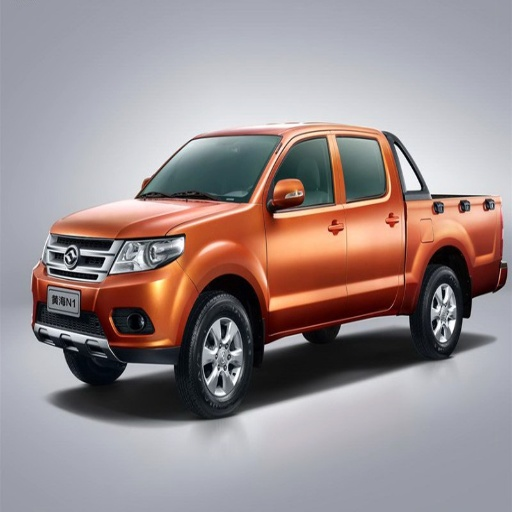back_glass: (335, 131, 404, 307)
back_right_light: (33, 236, 197, 358)
front_bumper: (135, 138, 279, 202)
front_glass: (267, 131, 347, 324)
front_left_door: (112, 233, 184, 274)
front_right_light: (52, 200, 245, 237)
tailgate: (406, 197, 500, 299)
trunk: (180, 294, 255, 416), (413, 267, 464, 357), (68, 353, 122, 384)
